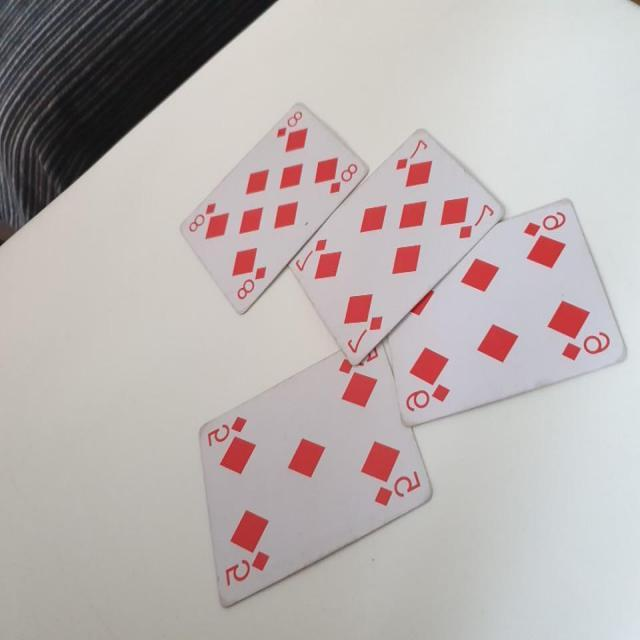5 of diamonds: (200, 336, 435, 614)
6 of diamonds: (382, 195, 632, 426)
7 of diamonds: (288, 127, 506, 366)
8 of diamonds: (178, 100, 371, 316)
